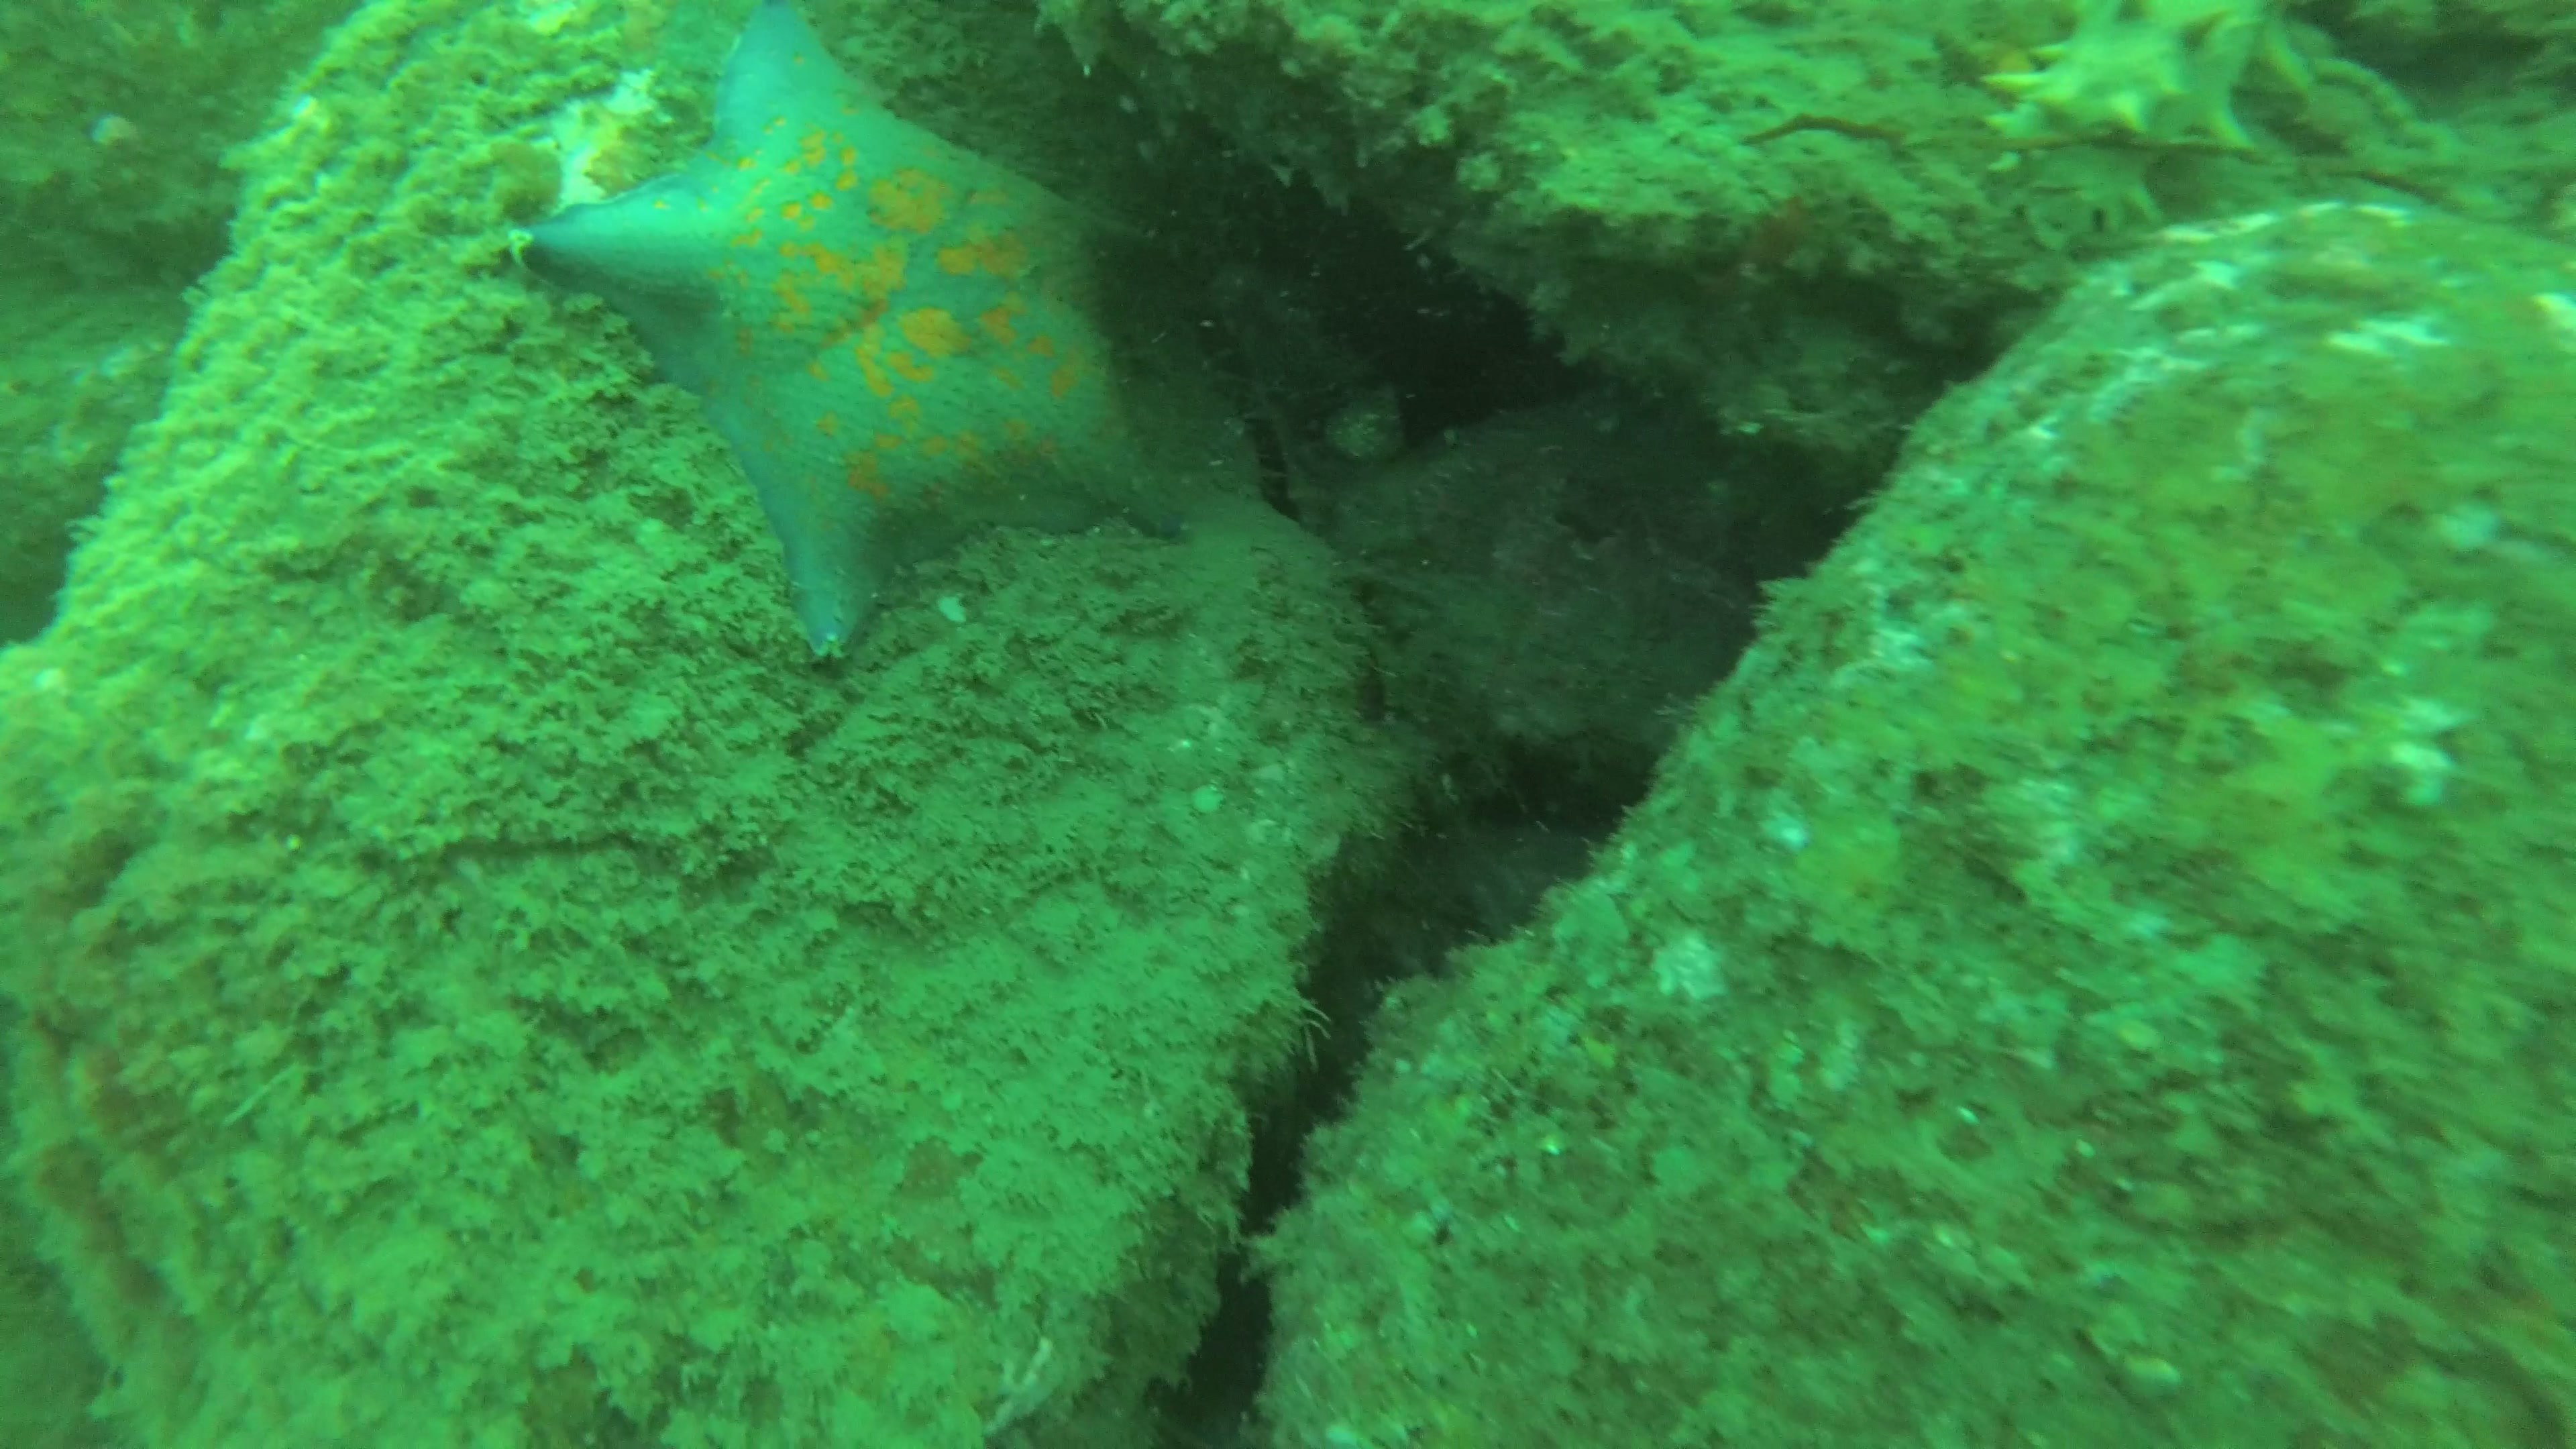holothurian: (1990, 2, 2305, 168)
starfish: (515, 5, 1189, 672)
